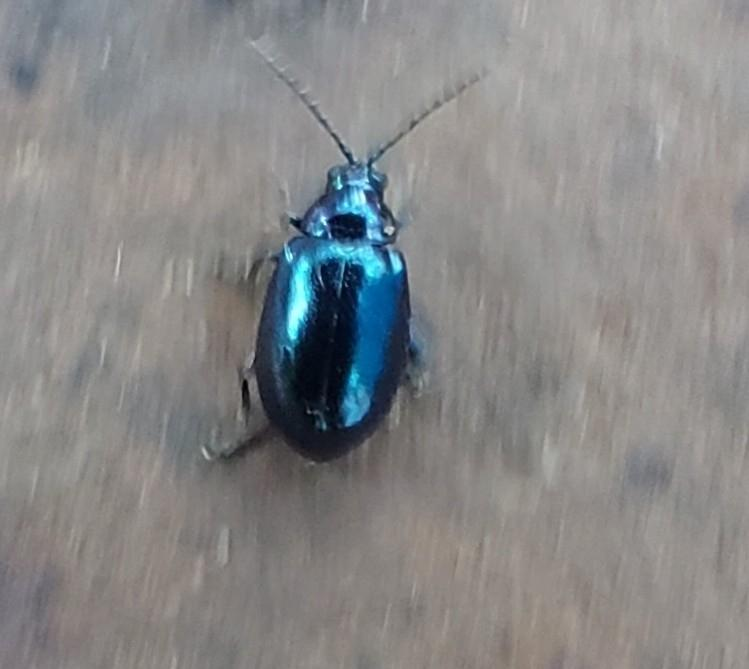flea_beetle: (188, 9, 526, 543)
